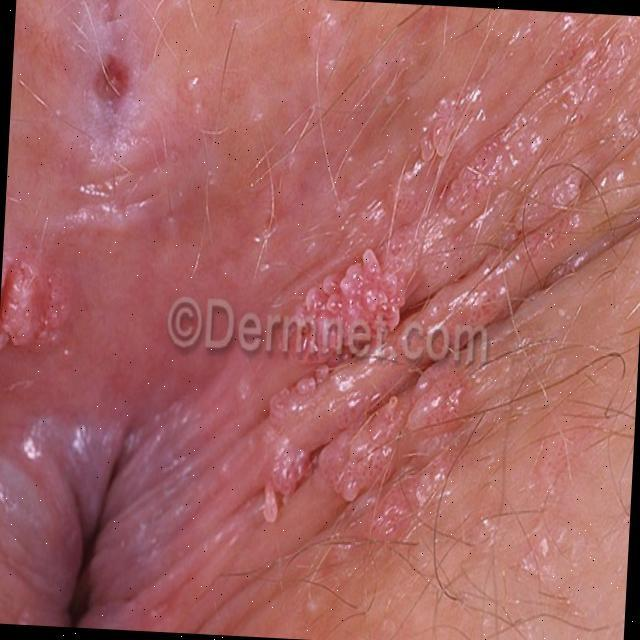Shingles: (249, 93, 605, 545), (0, 252, 72, 358)
